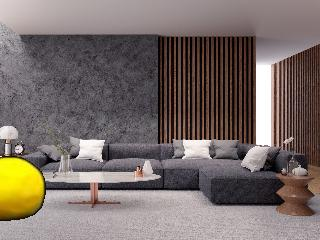lemon: (1, 159, 45, 222)
